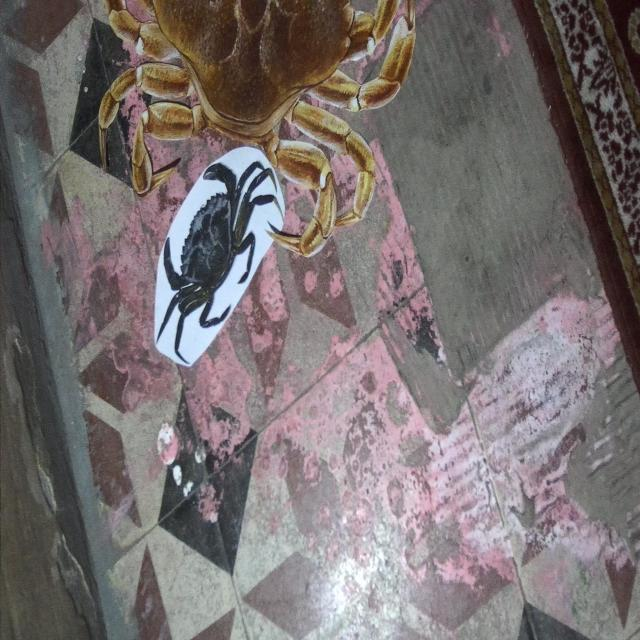European_Green_Crab: (136, 112, 286, 388)
